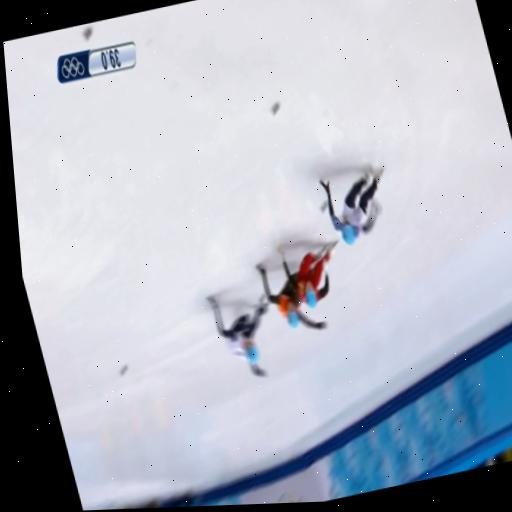Skater: (319, 169, 382, 244), (207, 297, 267, 375), (256, 264, 325, 329), (277, 241, 335, 306)
